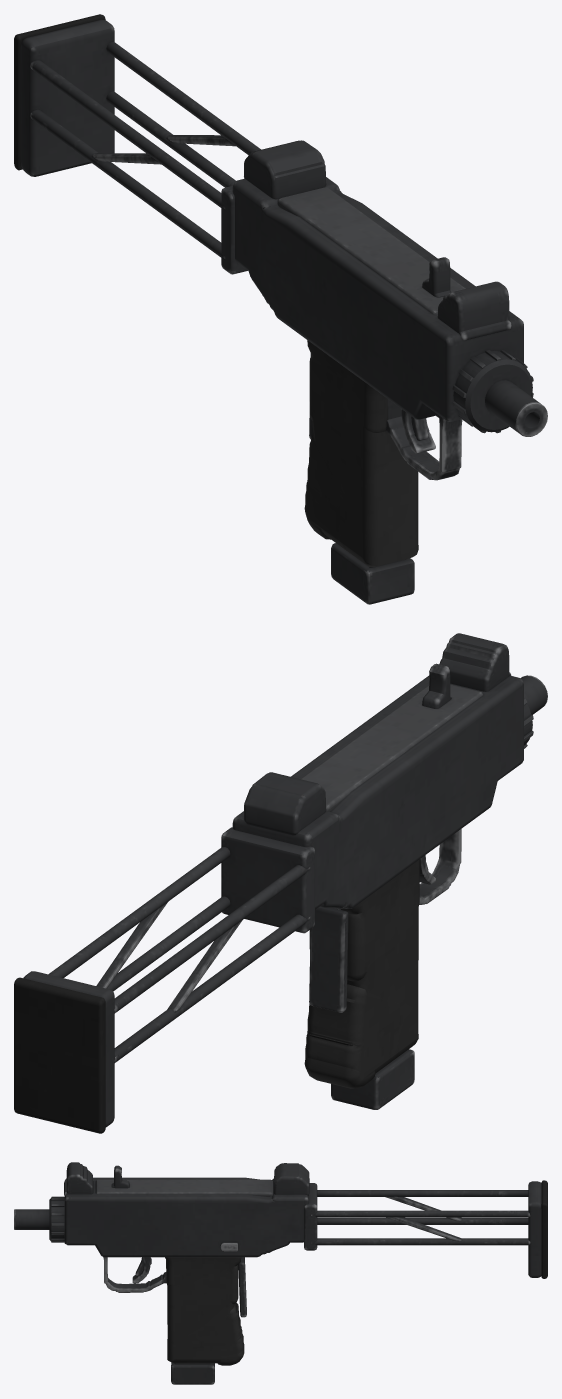
File: smg_uzi.glb
The picture shows the model from 3 angles, top to bottom: view 1: azimuth 30°, elevation 25°; view 2: azimuth 150°, elevation 25°; view 3: azimuth 270°, elevation 25°; orthographic projection. The views are drawn at different scales.
Visible parts, largest first — view 1: body, mag_mesh, bolt_mesh; view 2: body, mag_mesh, bolt_mesh; view 3: body, mag_mesh.
Boxes of the visible parts, box(x1,y1,x2,y2) form: body: box(14, 14, 547, 567); mag_mesh: box(331, 543, 414, 604); bolt_mesh: box(422, 257, 451, 297); body: box(14, 633, 547, 1133); mag_mesh: box(331, 1049, 414, 1109); bolt_mesh: box(422, 663, 451, 708); body: box(14, 1162, 547, 1365); mag_mesh: box(171, 1362, 214, 1384).
Size of the model in its own units: 0.052 by 0.2128 by 0.486.
1 material, 1 textured.
